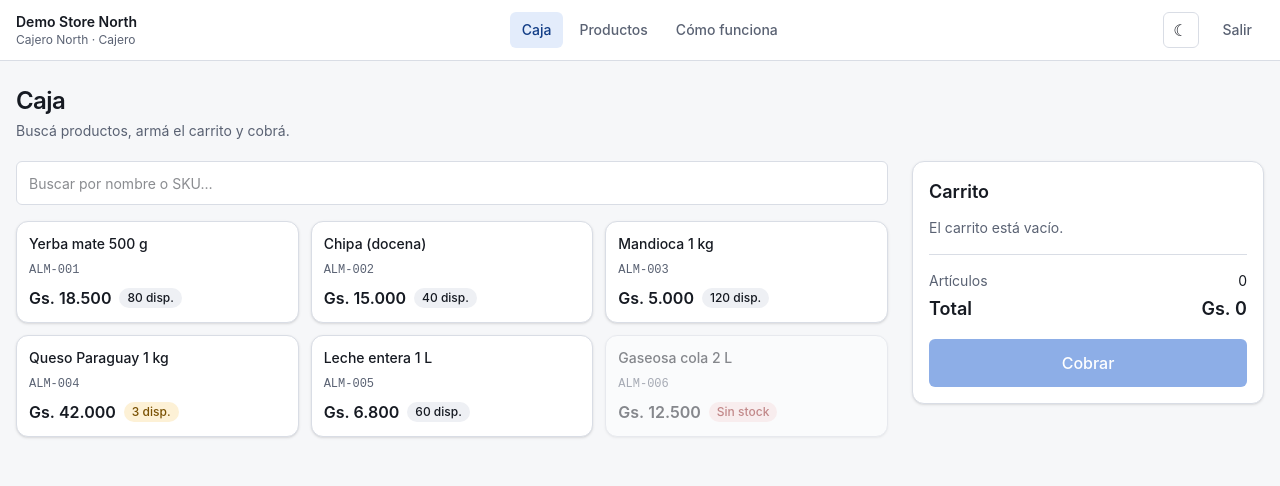
it: POS › checks out, clears the cart and refreshes stock
This screenshot has width=1280, height=486.
Check: the text "Yerba mate 500 g" is shown, box [29,234,148,254]
Click the button with aria-label "Agregar Mandioca".
click(666, 244)  # box [605,221,888,323]
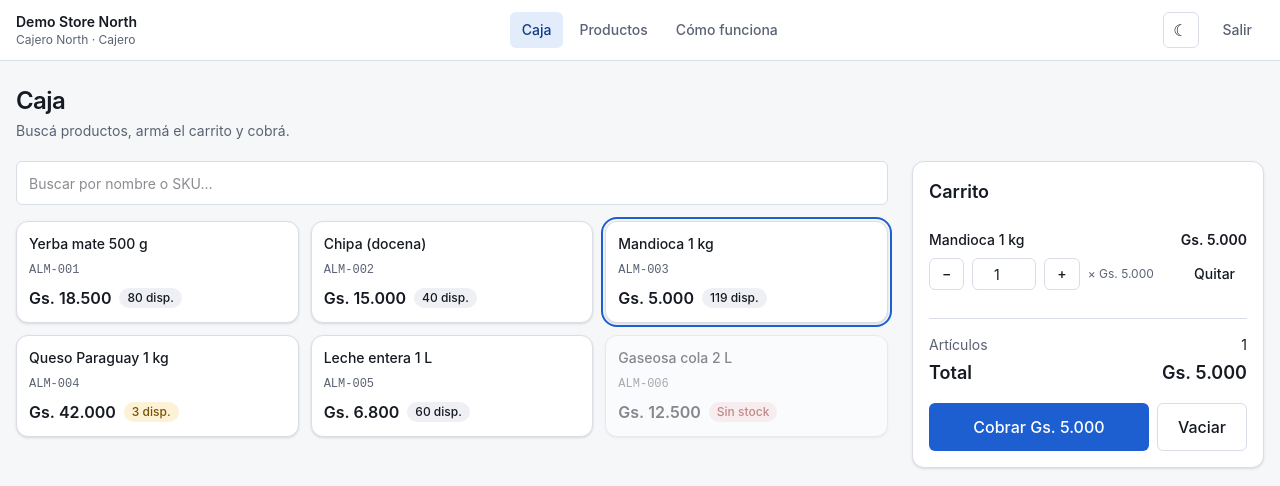
Click the button "Cobrar Gs. 5.000".
click(1039, 427)  # box [929,403,1149,451]
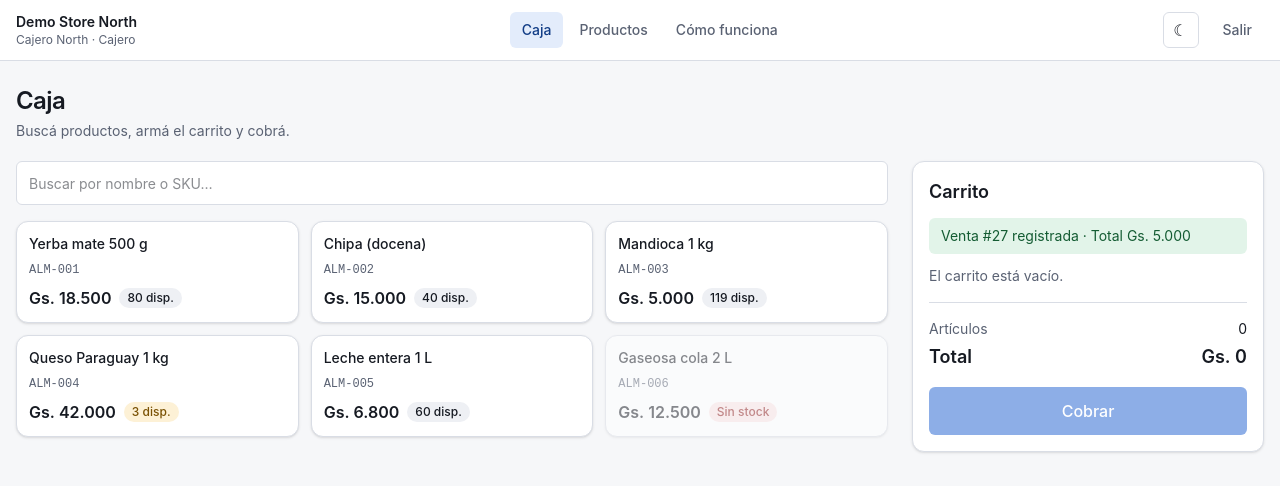
Check: the text "119 disp." is shown, box [702,288,767,308]
Check: the text "Venta #27 registrada · Total Gs. 5.000" is shown, box [929,218,1247,254]
Check: the text "El carrito está vacío." is shown, box [929,267,1063,284]
